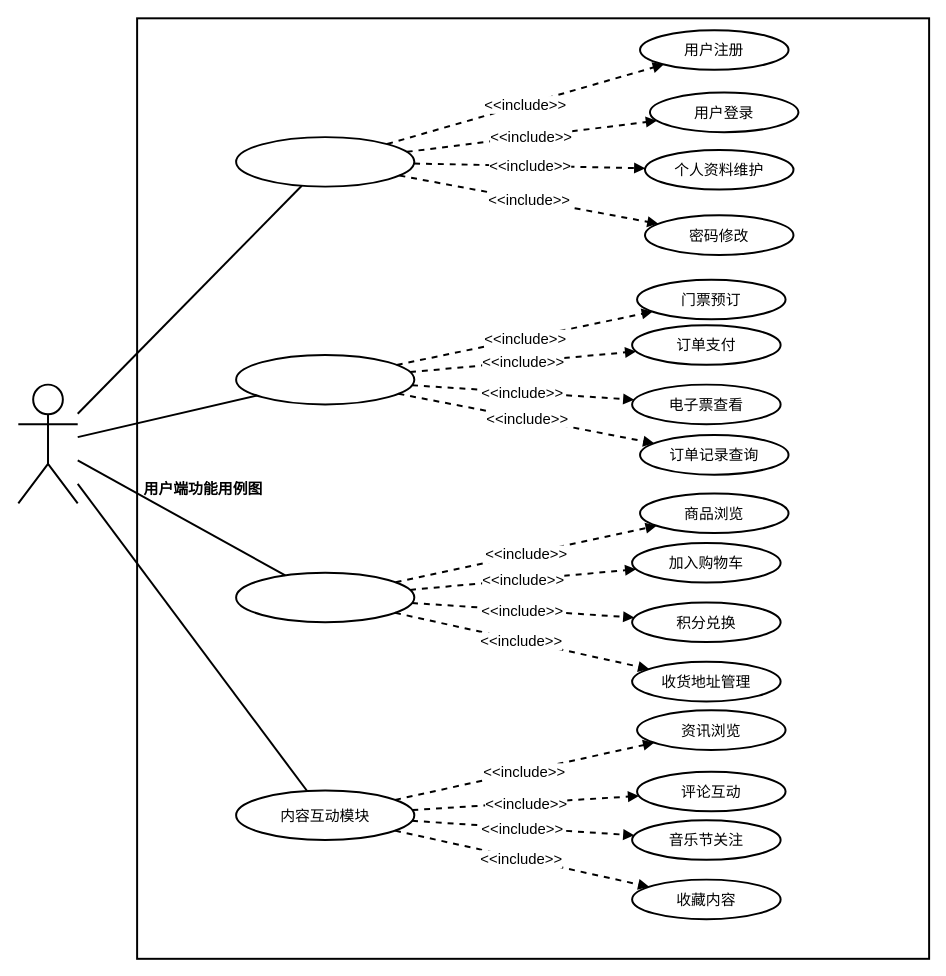
Image size: 946x976. Some labels were removed from this diagram. Here are the shapes that lost their labels. From the top down, the centre of each, then its label:
the point at 325,161: 账户与个人中心模块
the point at 325,379: 票务与订单模块
the point at 47,443: 普通用户
the point at 325,597: 商城与积分模块
